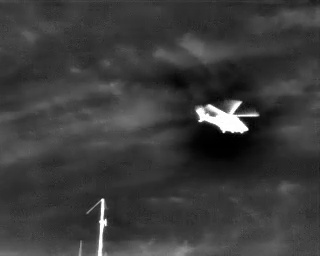HELICOPTER: (193, 93, 263, 140)
